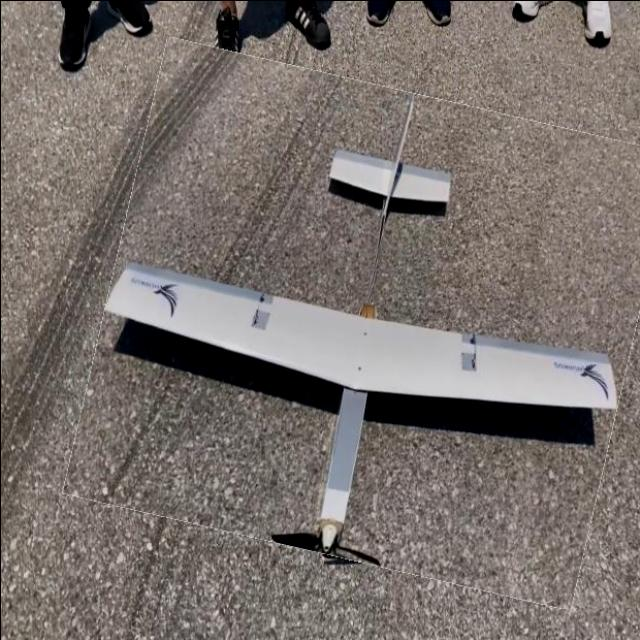plane: (100, 259, 617, 570)
